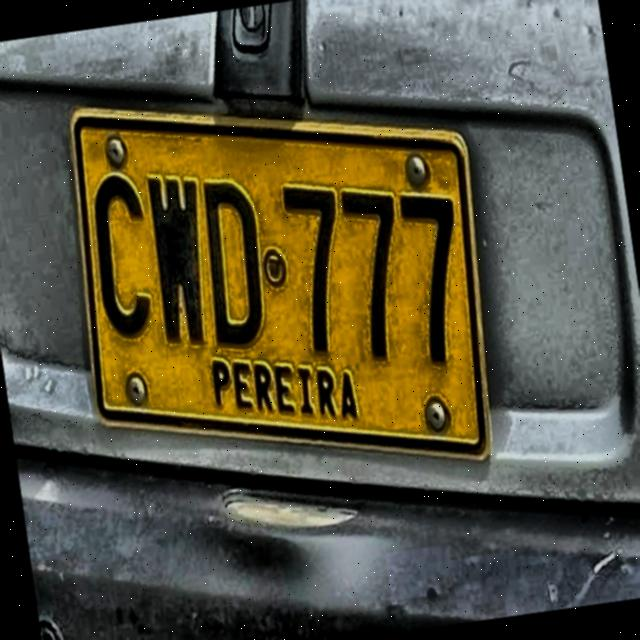plate: (76, 114, 487, 452)
